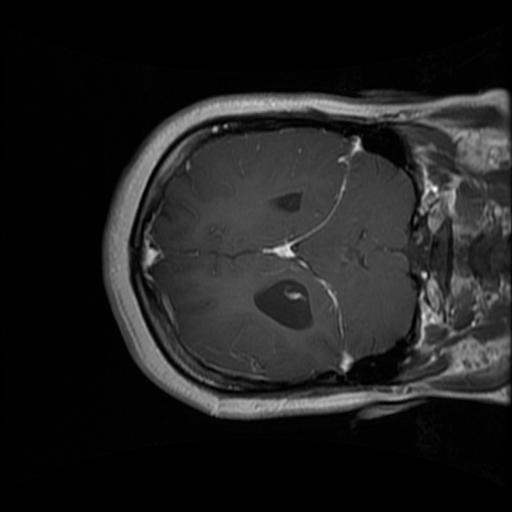glioma: (248, 281, 310, 332)
